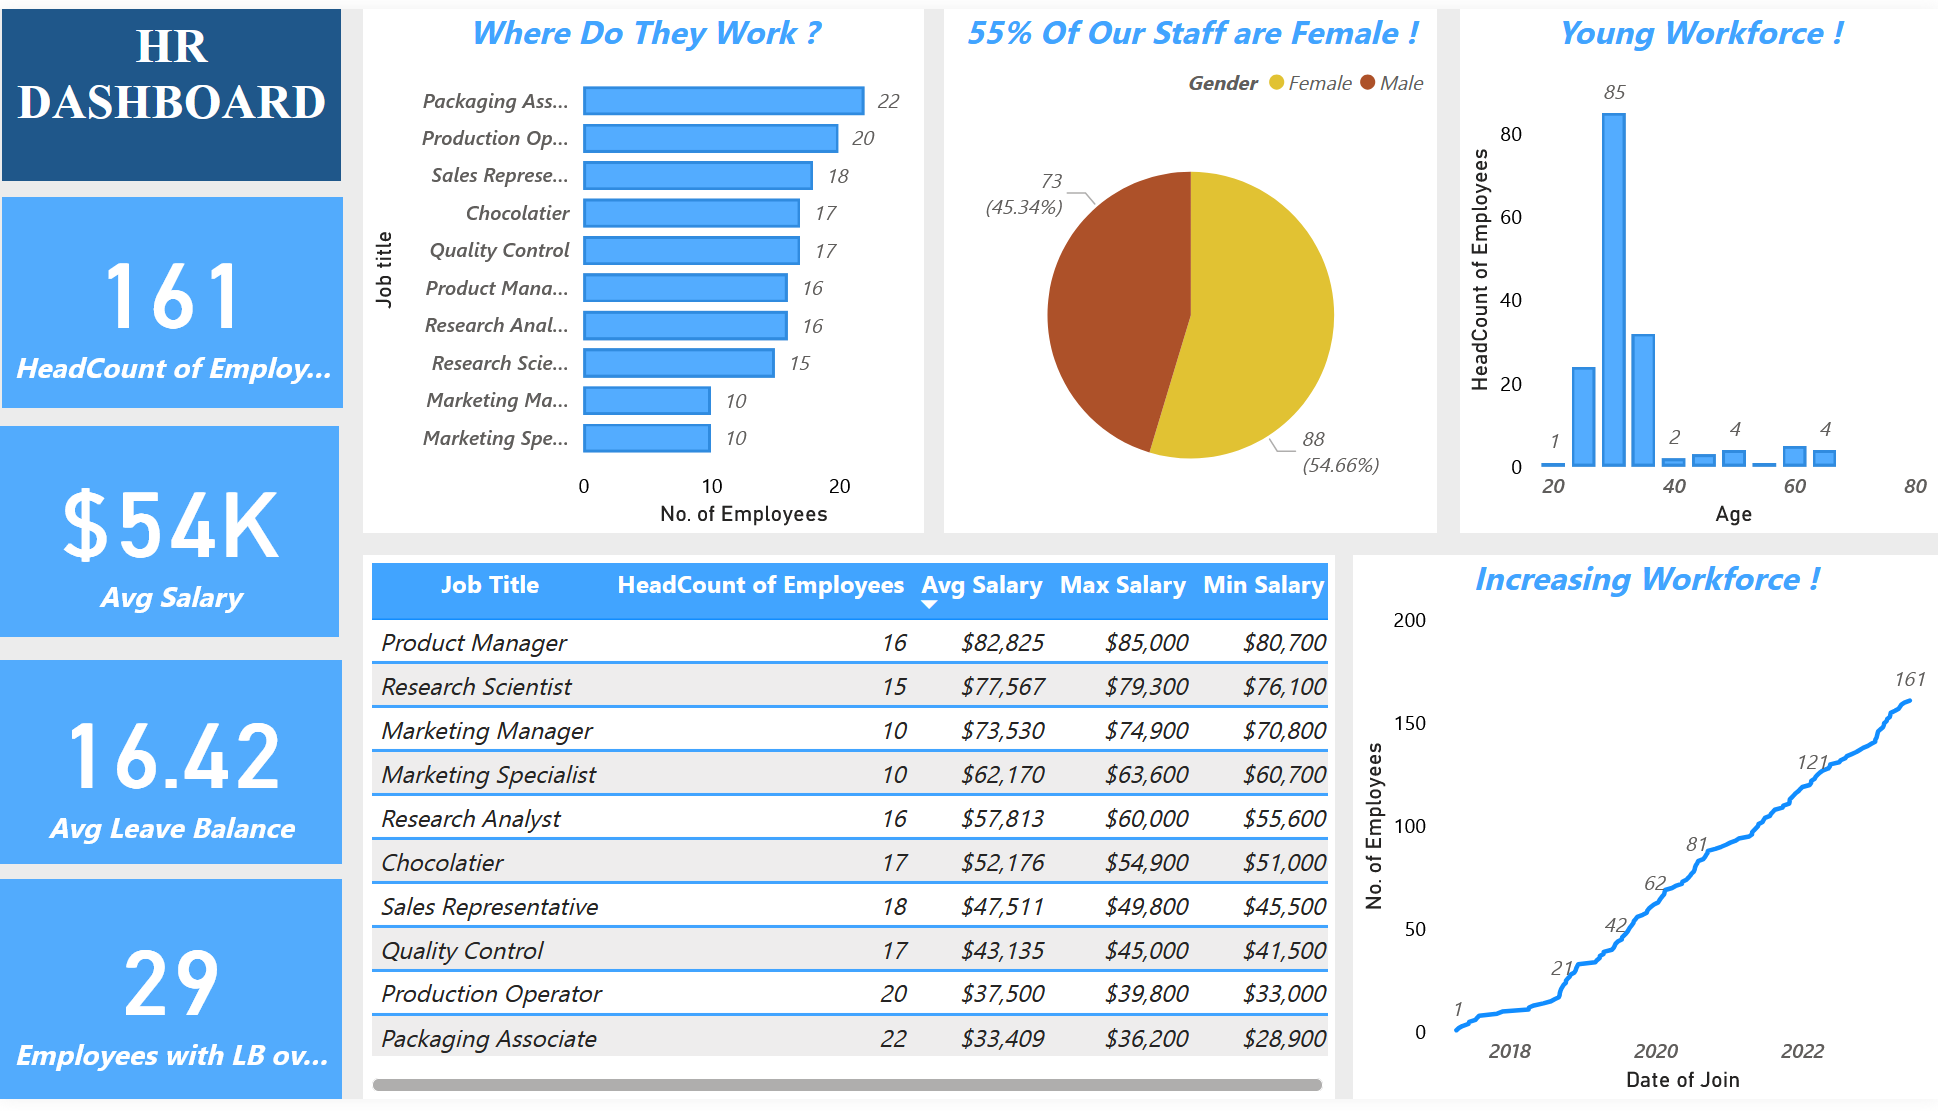

This screenshot's page, from the dashboard's own definition file:
{"tool":"powerbi","page":{"name":"Page 1","canvas":[1280,720],"ordinal":0},"visuals":[{"type":"clusteredBarChart","title":"Where Do They Work ?","fields":{"Category":["data.Job Title"],"Y":["data.HeadCount of Employees"]},"box":[239.8,0,370.5,346.1],"z":0},{"type":"pieChart","title":"55% Of Our Staff are Female !","fields":{"Category":["data.Gender"],"Y":["CountNonNull(data.Gender)"]},"box":[623.2,0,326,346.1],"z":1000},{"type":"tableEx","title":"Salary Distribution of Our Employees","fields":{"Values":["data.Job Title","data.HeadCount of Employees","data.Avg Salary","data.Max Salary","data.Min Salary"]},"box":[239.8,360.5,641.9,359],"z":3000},{"type":"card","fields":{"Values":["data.HeadCount of Employees"]},"box":[1.4,123.5,225.5,139.3],"z":4000},{"type":"card","fields":{"Values":["data.Avg Salary"]},"box":[0,275.7,224,139.3],"z":5000},{"type":"card","fields":{"Values":["data.Avg Leave Balance"]},"box":[0,429.4,225.5,135],"z":6000},{"type":"card","fields":{"Values":["data.Employees with LB over 20"]},"box":[0,574.4,225.5,145],"z":7000},{"type":"textbox","box":[1.4,0,224,113.4],"z":8000},{"type":"clusteredColumnChart","title":"Young Workforce !","fields":{"Category":["data.Age (bins)"],"Y":["data.HeadCount of Employees"]},"box":[963.6,0,315.9,346.1],"z":8001},{"type":"lineChart","title":"Increasing Workforce !","fields":{"Y":["data.Cumulative Headcount"],"Category":["data.Date of Join"]},"box":[893.2,360.5,386.3,359],"z":8002}]}

Visuals, with their boxes in screenshot pixels (x1, y1, x2, y2), scaled from the page's 1280x720 canvas onto the 1938x1111 screenshot:
"Where Do They Work ?" clusteredBarChart: 363 0 924 534
"55% Of Our Staff are Female !" pieChart: 944 0 1437 534
"Salary Distribution of Our Employees" tableEx: 363 556 1335 1110
card - data.HeadCount of Employees: 2 191 344 406
card - data.Avg Salary: 0 425 339 640
card - data.Avg Leave Balance: 0 663 341 871
card - data.Employees with LB over 20: 0 886 341 1110
textbox: 2 0 341 175
"Young Workforce !" clusteredColumnChart: 1459 0 1937 534
"Increasing Workforce !" lineChart: 1352 556 1937 1110
